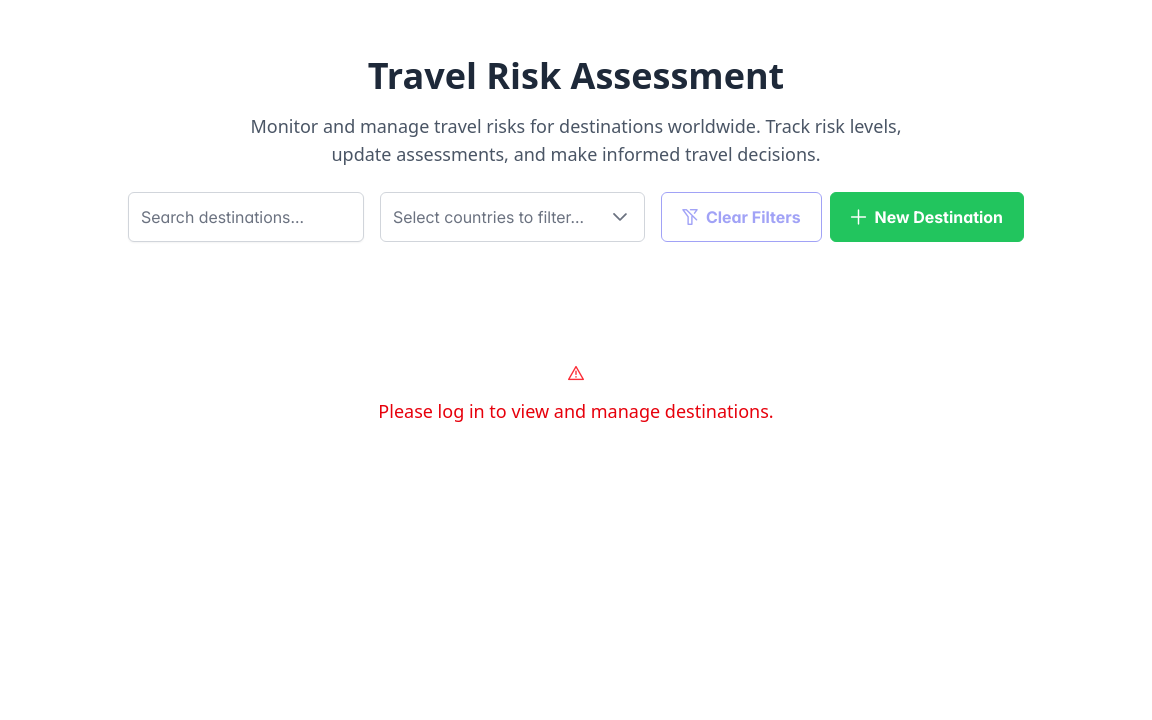
Test case: TravelRisk Page › shows validation error when saving empty form
Click the button "New Destination" at (927, 217), box [830, 192, 1024, 242]
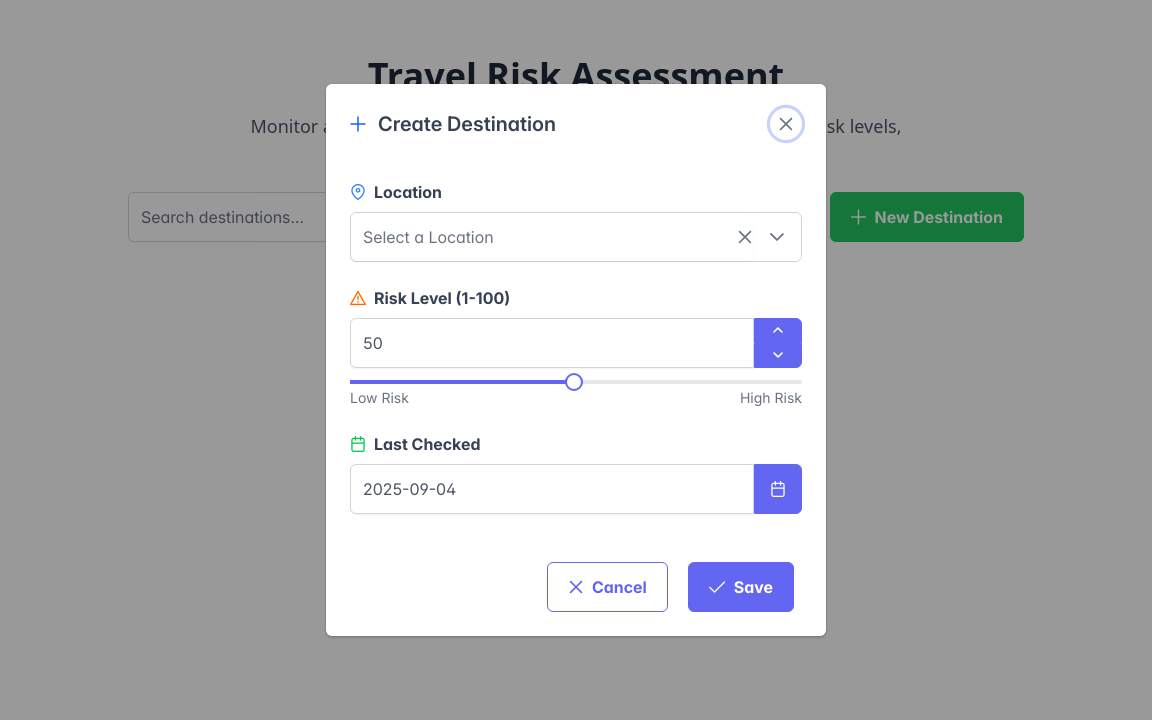
Click the button "Save" at (741, 587), box [688, 562, 794, 612]
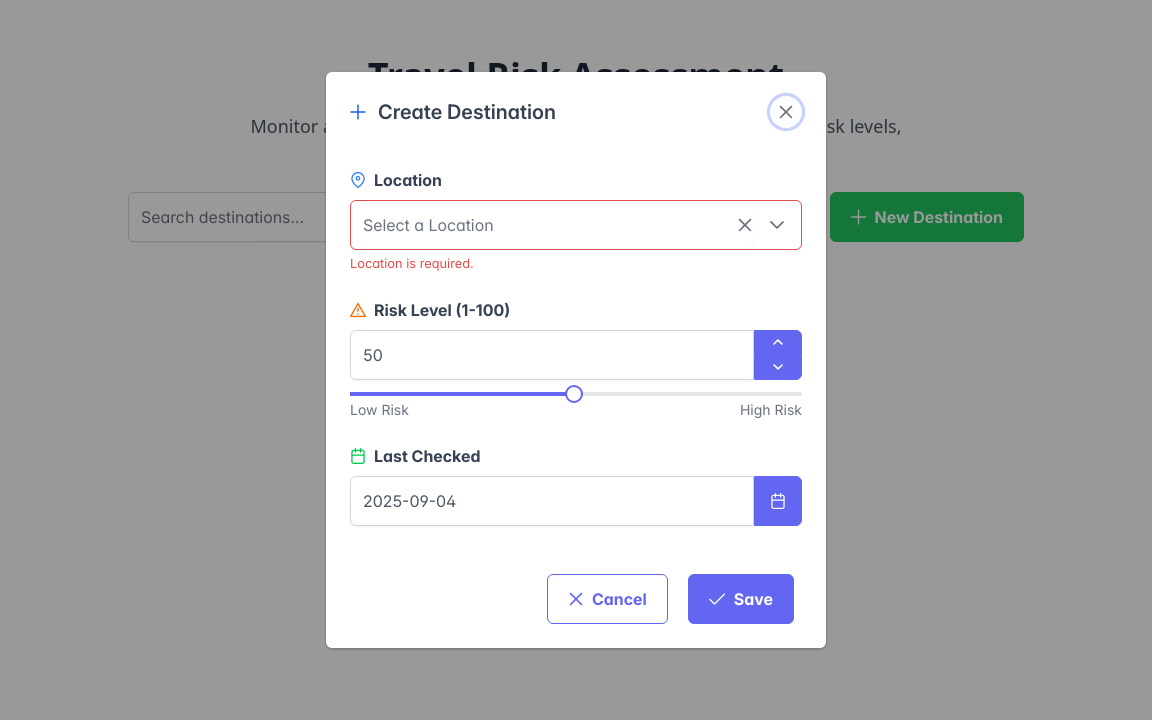
Expected: the text "Location is required." is shown, [350, 256, 474, 271]
